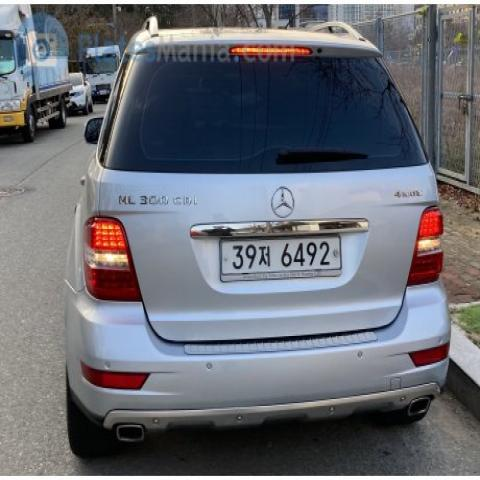LP: (214, 222, 352, 290)
